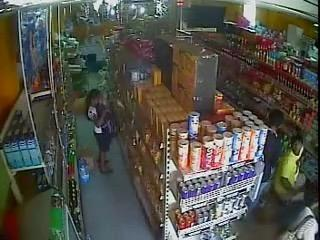shoplifting: (99, 97, 126, 145)
